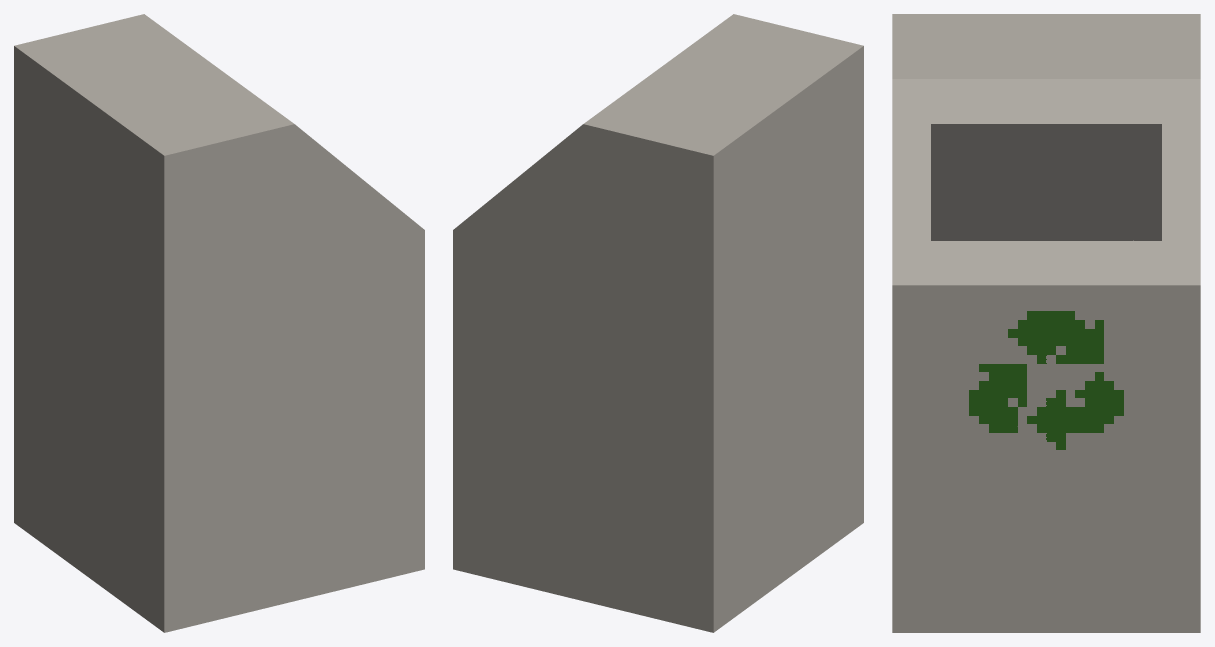
Rendered from caixote_do_lixo.gltf.
3 views of the same model, side by side, from view 1: azimuth 30°, elevation 25°; view 2: azimuth 150°, elevation 25°; view 3: azimuth 270°, elevation 25° (orthographic). The views are drawn at different scales.
Visible parts, largest first — view 1: Cube; view 2: Cube; view 3: Cube.
Part boxes in pixels (left/top/right/bottom): Cube: left=14, top=14, right=424, bottom=632; Cube: left=453, top=14, right=863, bottom=632; Cube: left=892, top=14, right=1200, bottom=632.
Size of the model in its own units: 2 by 3.5 by 2.
Materials: 1 (1 with a texture image).
